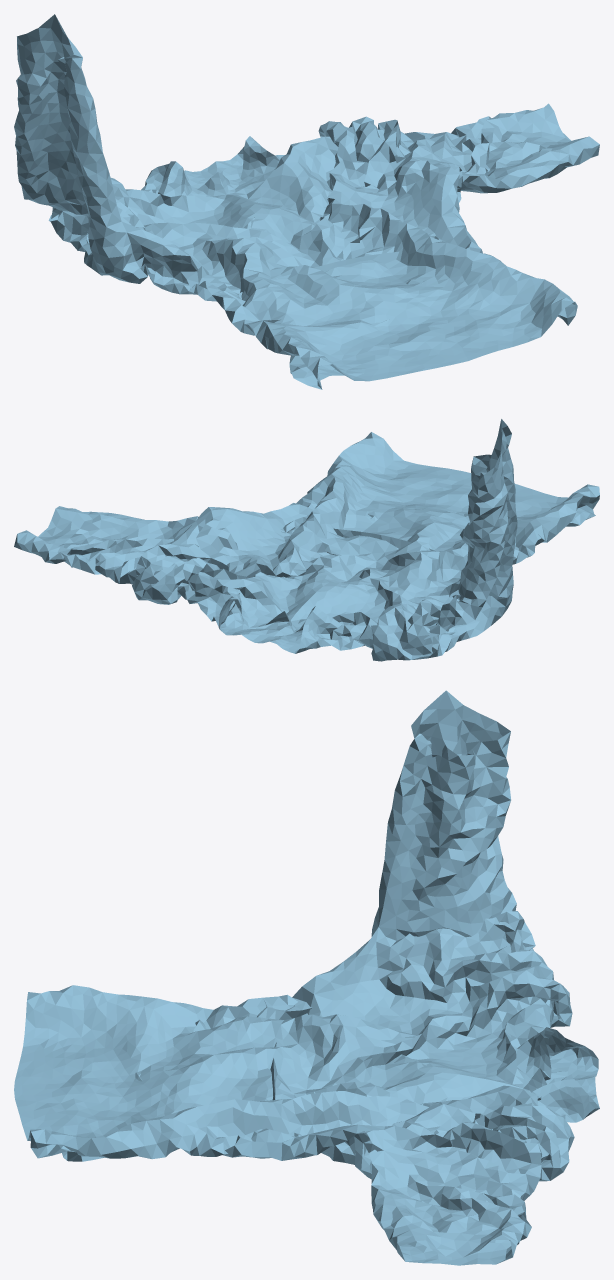
The model's file is frame_07.glb.
3 views of the same model, one above another, from view 1: azimuth 30°, elevation 25°; view 2: azimuth 150°, elevation 25°; view 3: azimuth 270°, elevation 25° (orthographic). The views are drawn at different scales.
Parts seen in each view (by area): view 1: frame_07.obj; view 2: frame_07.obj; view 3: frame_07.obj.
Boxes of the visible parts, left/top/right/bottom form: frame_07.obj: left=14, top=14, right=599, bottom=389; frame_07.obj: left=14, top=419, right=599, bottom=661; frame_07.obj: left=14, top=690, right=599, bottom=1265.
Size of the model in its own units: 1.62 by 0.7571 by 1.35.
